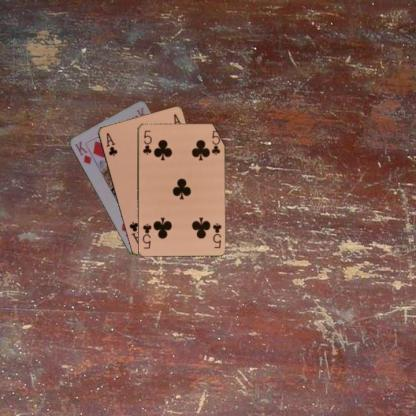5c: (210, 220, 222, 249), (140, 128, 152, 156)
Ac: (104, 130, 118, 157)
Kd: (72, 138, 92, 166)
